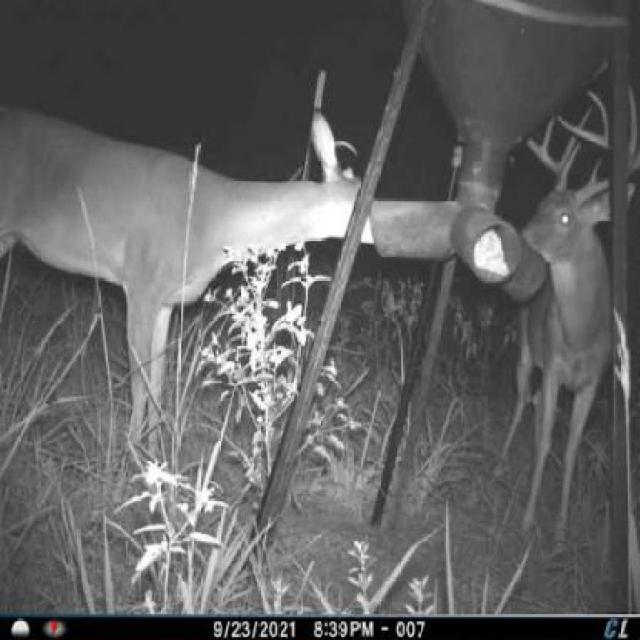Deer: (0, 87, 374, 476), (504, 80, 639, 563)
